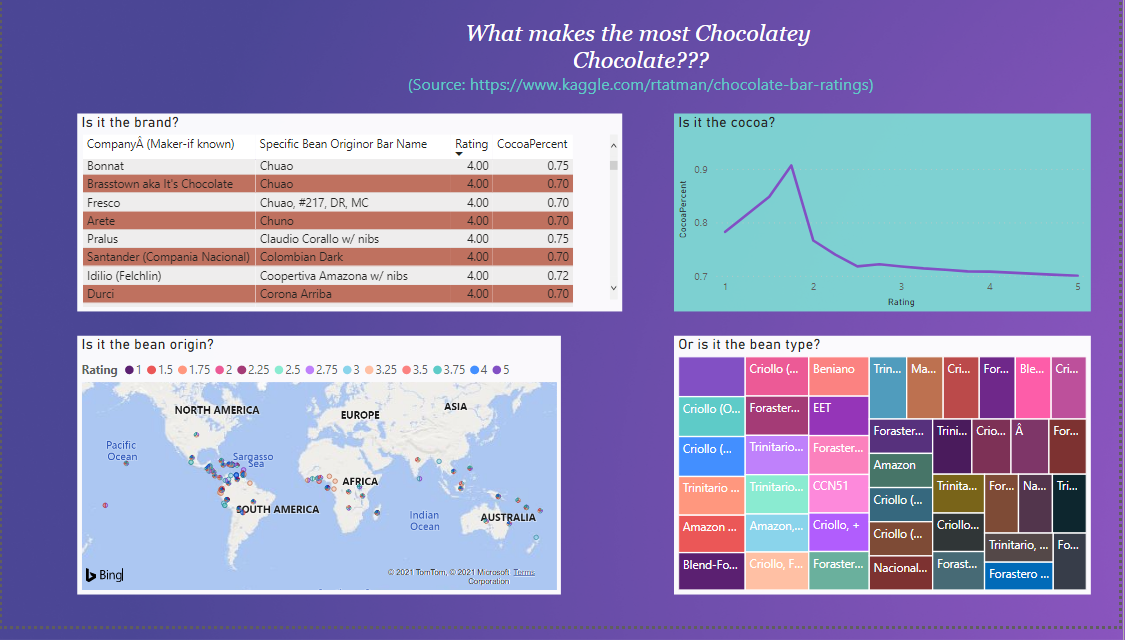

Layout of this report page (visuals, bound fields, positions):
{"tool":"powerbi","page":{"name":"Page 1","canvas":[1280,720],"ordinal":0},"visuals":[{"type":"textbox","box":[453.3,20.1,557.5,112.3],"z":0},{"type":"tableEx","title":"Is it the brand?","fields":{"Values":["cocoa.CompanyÂ (Maker-if known)","cocoa.Specific Bean Originor Bar Name","Avg(cocoa.Rating)","Avg(cocoa.CocoaPercent)"]},"box":[87.2,132.5,624.3,226.7],"z":1000},{"type":"lineChart","title":"Is it the cocoa?","fields":{"Category":["cocoa.Rating"],"Y":["Avg(cocoa.CocoaPercent)"]},"box":[770.8,132.5,477.8,226.7],"z":2000},{"type":"map","title":"Is it the bean origin?","fields":{"Series":["cocoa.Rating"],"Category":["cocoa.Broad BeanOrigin"]},"box":[87.2,387.1,554.6,296.5],"z":2001},{"type":"treemap","title":"Or is it the bean type?","fields":{"Group":["cocoa.BeanType"],"Values":["Avg(cocoa.Rating)"]},"box":[770.8,387.1,477.8,296.5],"z":2003}]}

Visuals, with their boxes in screenshot pixels (x1, y1, x2, y2), scaled from the page's 1280x720 canvas onto the 1125x640 screenshot:
textbox: crop(398, 18, 888, 118)
"Is it the brand?" tableEx: crop(77, 118, 625, 319)
"Is it the cocoa?" lineChart: crop(677, 118, 1097, 319)
"Is it the bean origin?" map: crop(77, 344, 564, 608)
"Or is it the bean type?" treemap: crop(677, 344, 1097, 608)
